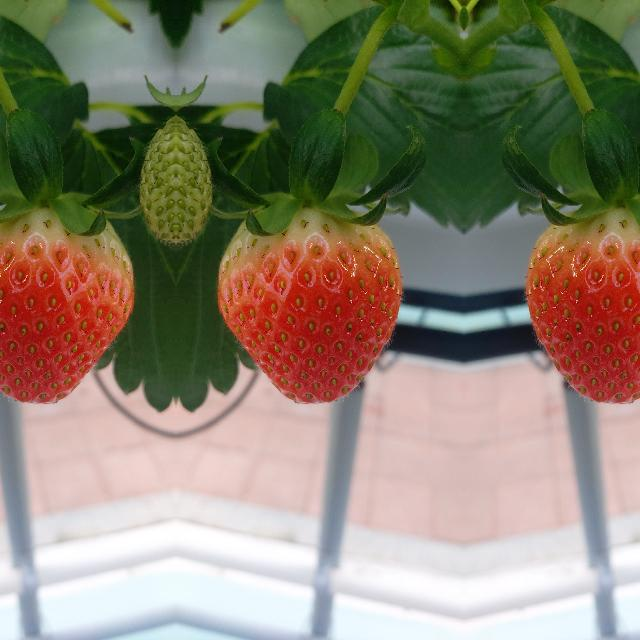Health_100: (216, 206, 400, 404), (0, 206, 134, 403), (525, 206, 640, 403)
Health_25: (176, 112, 210, 246), (140, 112, 174, 246)
